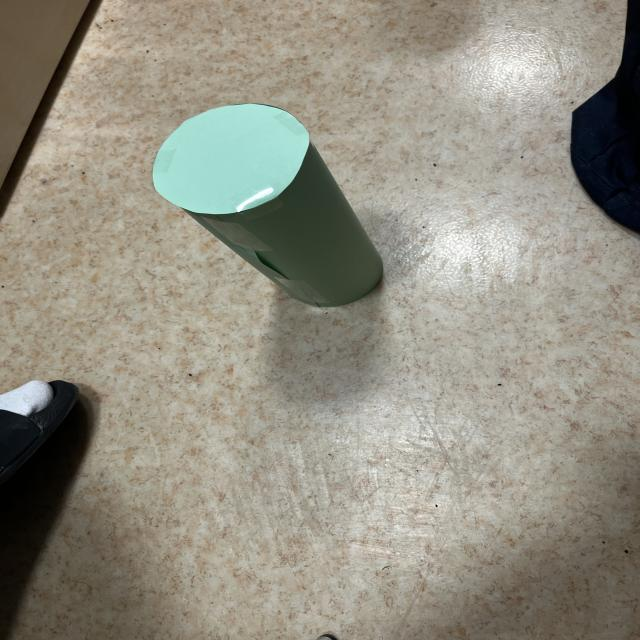meta: (153, 104, 383, 307)
